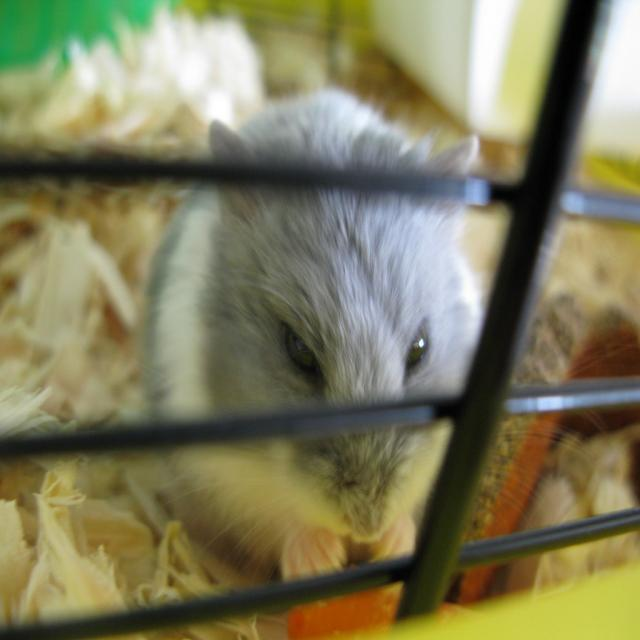rat: (135, 87, 485, 583)
